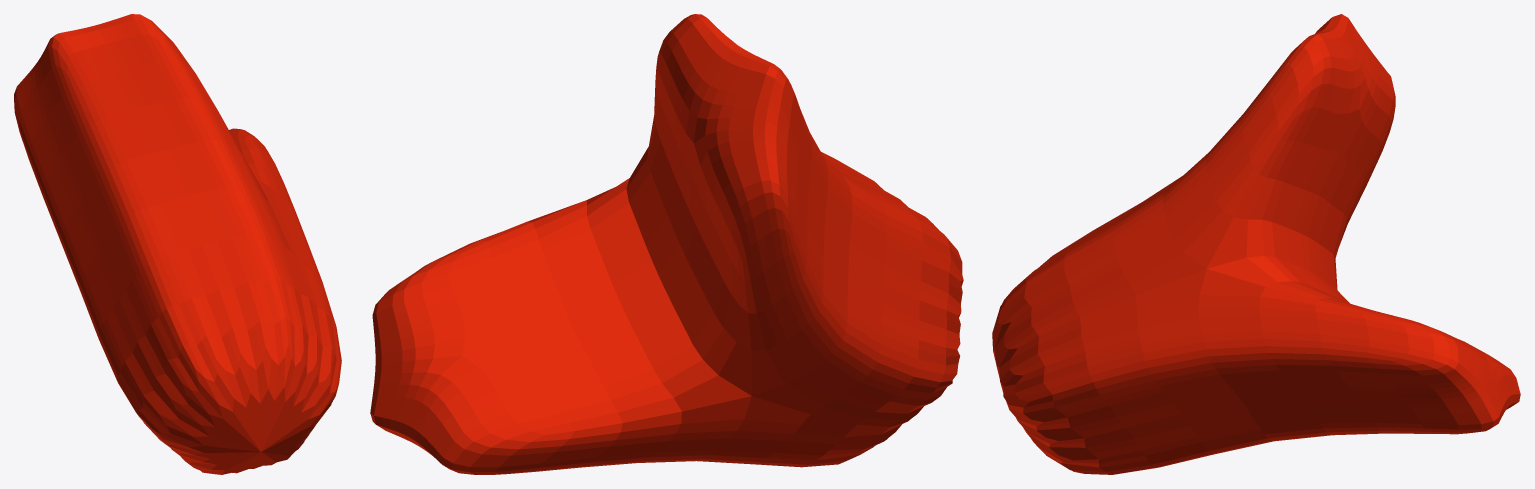
The model's file is balaLifoncitoB.fbx.
3 views of the same model, side by side, from view 1: azimuth 30°, elevation 25°; view 2: azimuth 150°, elevation 25°; view 3: azimuth 270°, elevation 25° (orthographic). The views are drawn at different scales.
Visible parts, largest first — view 1: Balas; view 2: Balas; view 3: Balas.
Boxes of the visible parts, bbox=[...] form: Balas: bbox=[14, 14, 341, 474]; Balas: bbox=[370, 14, 963, 474]; Balas: bbox=[992, 14, 1520, 474].
Bounding box in the file's own units: 0.3509 × 0.476 × 0.5386.
